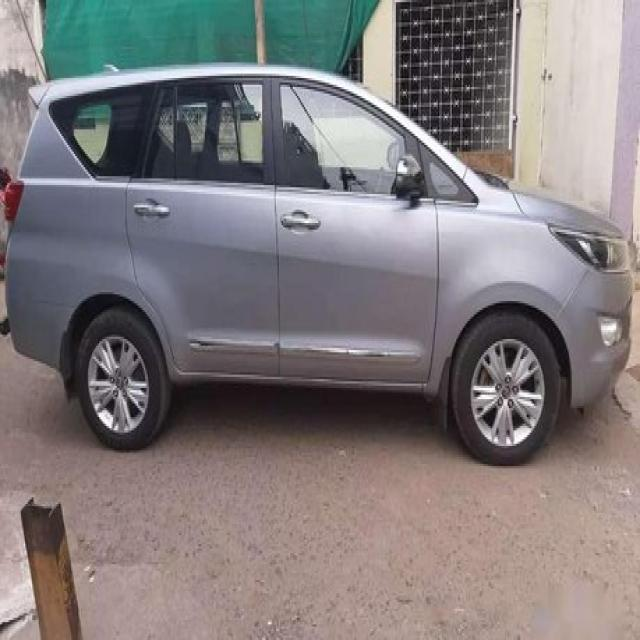light_vehicle: (1, 62, 635, 468)
